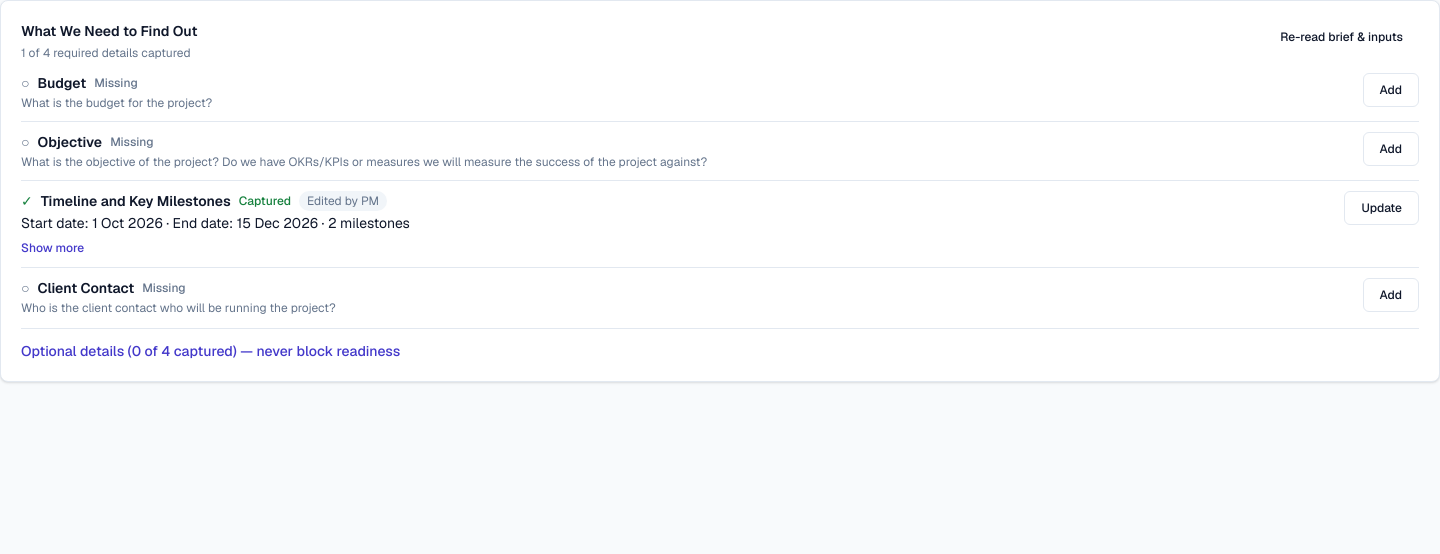
Test: BriefChecklist — What We Need to Find Out › Timeline and Key Milestones › summarises the timeline on one line, with each milestone as name + date under 'Show more'
What coordinates should you click on to do the following:
click the heading "Show more"
I would click on:
 (53, 248)
Its box is [21,240,84,256].
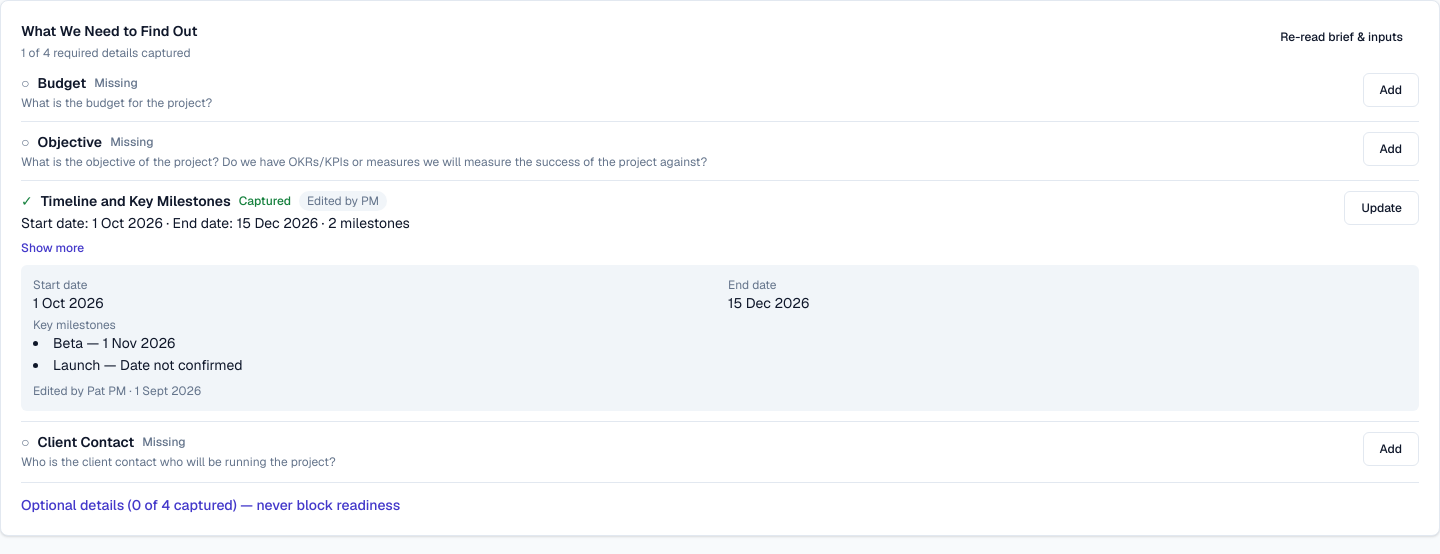
Expected: the list items read "Beta — 1 Nov 2026", "Launch — Date not confirmed", in this order, [53,334,175,352]; [53,356,242,374]
